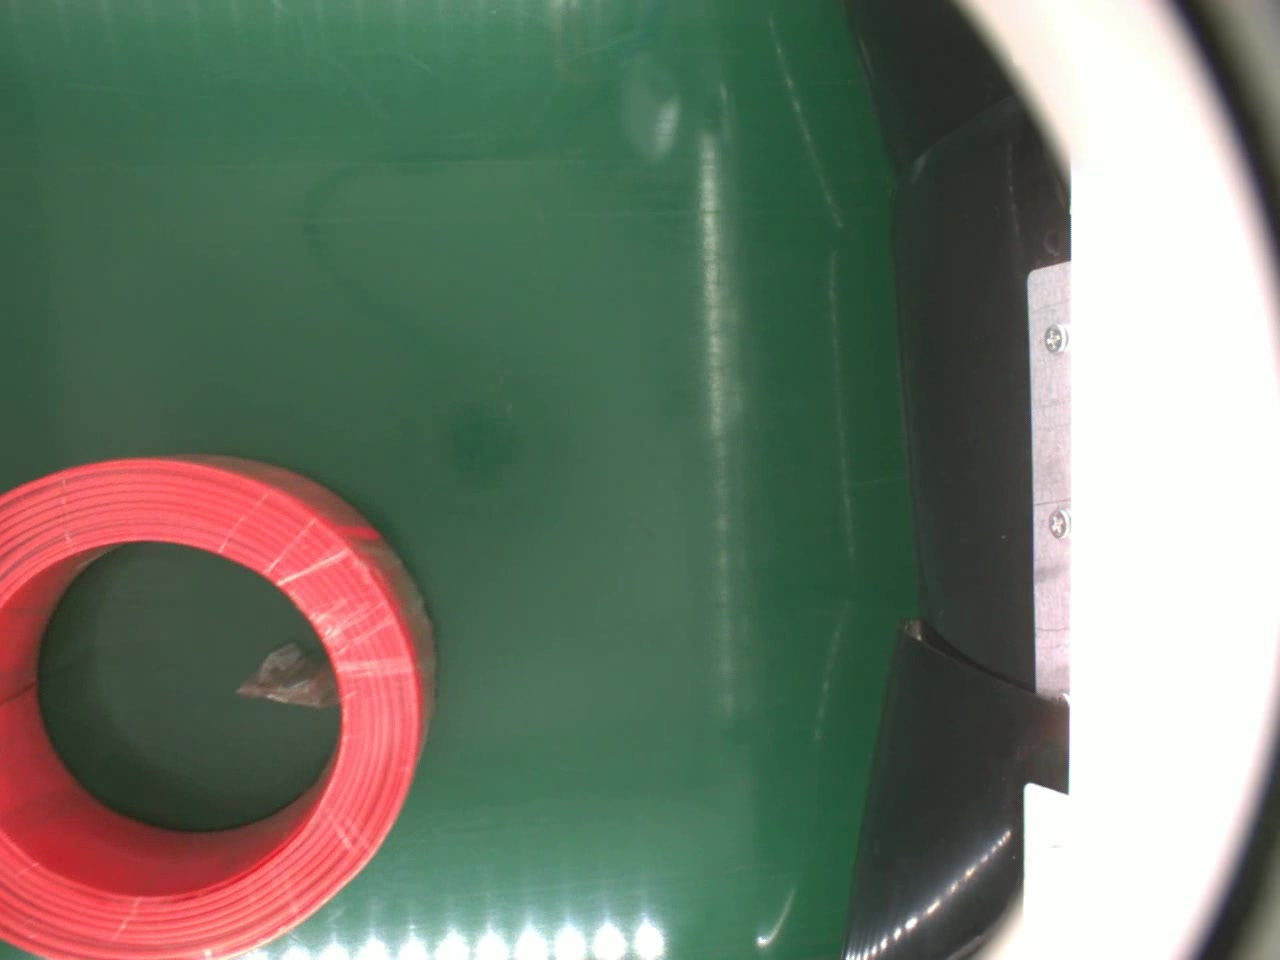red: (0, 447, 436, 960)
